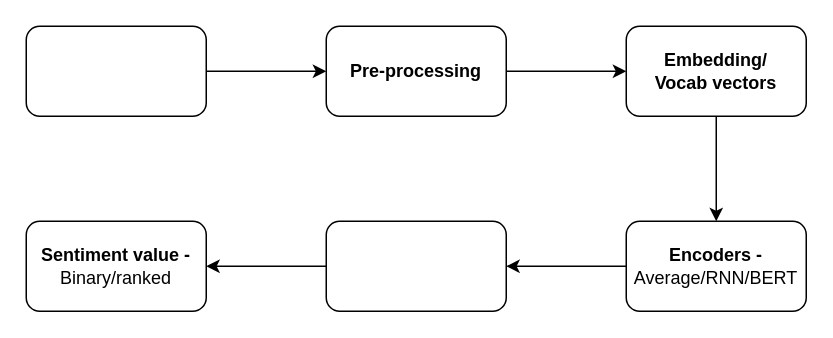
The diagram is 833 pixels wide and 338 high, and some of its shapes have lost their labels. The shapes that lost their labels are listed below. From the top down, each one's box as (x1, y1, x2, y2) in pixels, then its label:
(25, 25, 206, 116): Text Input
(325, 220, 506, 311): Classifier
